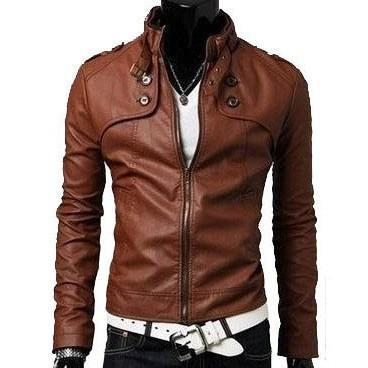jacket: (56, 16, 322, 356)
